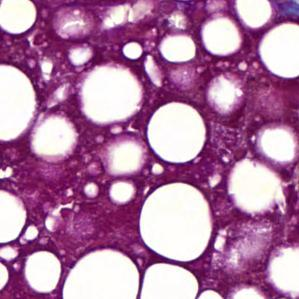steatosis: (139, 181, 215, 265), (63, 248, 140, 299), (149, 102, 208, 166), (258, 22, 299, 78), (26, 250, 61, 293), (0, 0, 37, 36)
